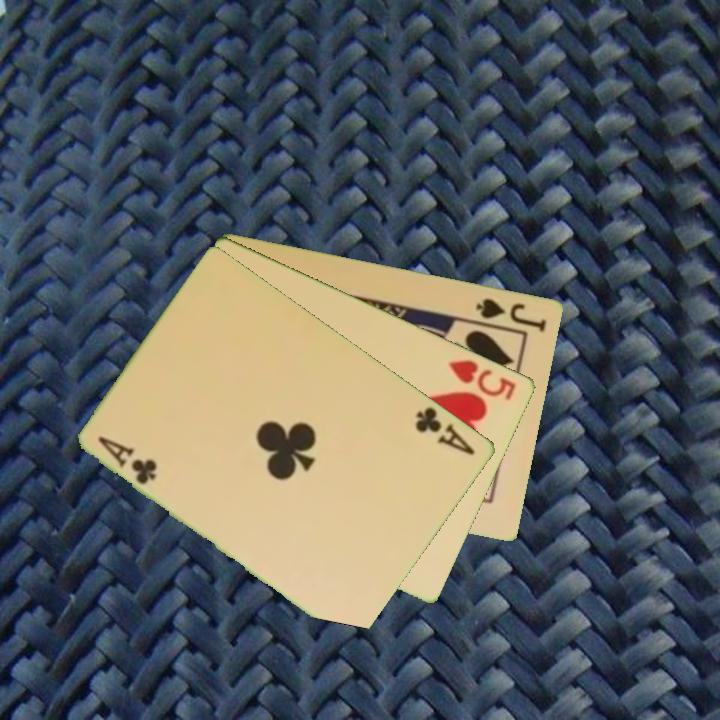5h: (446, 356, 520, 403)
Ac: (94, 432, 161, 488), (412, 403, 479, 458)
Js: (473, 294, 550, 335)
